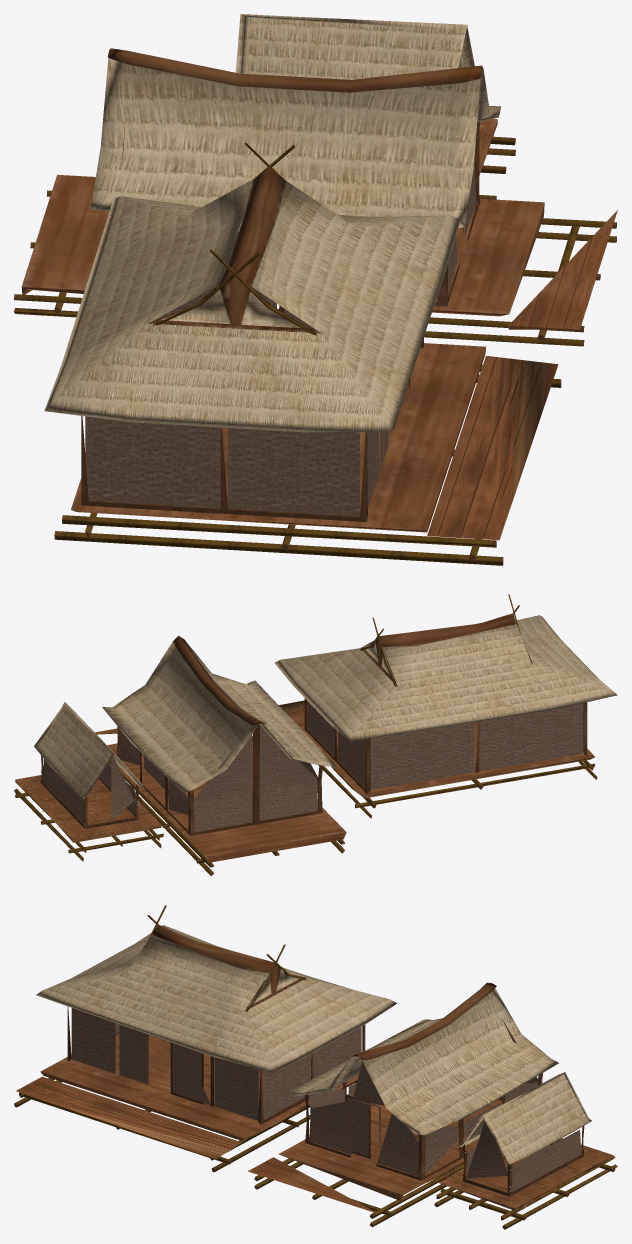
The model's file is nha-be.glb.
The picture shows the model from 3 angles, top to bottom: view 1: azimuth 30°, elevation 25°; view 2: azimuth 150°, elevation 25°; view 3: azimuth 270°, elevation 25°; orthographic projection. The views are drawn at different scales.
Visible parts, largest first — view 1: house 1 walls.008_Material.006_0, house 1 walls.008_house 1 walls.002_0, house 2 walls.007_house 2 foundation_0, house 1 walls.008_house 1 foundation_0, house 2 walls.007_house 2 terrace_0, house 2 walls.007_house 2 roof_0, house 1 walls.008_house 1 roof_0, house 1 walls.008_house 1 terrace_0, house 2 walls.007_house 2 bamboo c_0, house 2 walls.007_house 2 bamboo a_0, house 2 walls.007_house 2 walls_0, house 1 walls.008_house 1 bamboo a_0 (+3 smaller); view 2: house 1 walls.008_Material.006_0, house 1 walls.008_house 1 walls.002_0, house 1 walls.008_house 1 foundation_0, house 4 walls.006_house 4 foundation_0, house 2 walls.007_house 2 foundation_0, house 1 walls.008_house 1 walls_0, house 2 walls.007_house 2 roof_0, house 1 walls.008_house 1 roof_0, house 2 walls.007_house 2 walls_0, house 2 walls.007_house 2 bamboo b_0, house 4 walls.006_house 4 walls_0, house 1 walls.008_house 1 bamboo c_0 (+3 smaller); view 3: house 1 walls.008_Material.006_0, house 1 walls.008_house 1 walls.002_0, house 2 walls.007_house 2 foundation_0, house 1 walls.008_house 1 foundation_0, house 2 walls.007_house 2 terrace_0, house 4 walls.006_house 4 foundation_0, house 2 walls.007_house 2 roof_0, house 1 walls.008_house 1 terrace_0, house 1 walls.008_house 1 roof_0, house 1 walls.008_house 1 walls_0, house 2 walls.007_house 2 walls_0, house 4 walls.006_house 4 walls_0 (+7 smaller).
Part boxes in pixels (<box>): house 1 walls.008_Material.006_0: <box>44,14,501,432</box>; house 1 walls.008_house 1 walls.002_0: <box>85,108,476,516</box>; house 2 walls.007_house 2 foundation_0: <box>71,343,485,532</box>; house 1 walls.008_house 1 foundation_0: <box>21,174,544,316</box>; house 2 walls.007_house 2 terrace_0: <box>427,356,558,540</box>; house 2 walls.007_house 2 roof_0: <box>148,167,321,333</box>; house 1 walls.008_house 1 roof_0: <box>107,48,483,92</box>; house 1 walls.008_house 1 terrace_0: <box>508,210,617,329</box>; house 2 walls.007_house 2 bamboo c_0: <box>54,374,561,565</box>; house 2 walls.007_house 2 bamboo a_0: <box>62,364,496,547</box>; house 2 walls.007_house 2 walls_0: <box>81,305,423,521</box>; house 1 walls.008_house 1 bamboo a_0: <box>14,190,616,332</box>; house 1 walls.008_Material.006_0: <box>34,615,617,798</box>; house 1 walls.008_house 1 walls.002_0: <box>43,701,583,832</box>; house 1 walls.008_house 1 foundation_0: <box>107,736,346,862</box>; house 4 walls.006_house 4 foundation_0: <box>15,775,161,842</box>; house 2 walls.007_house 2 foundation_0: <box>289,713,594,798</box>; house 1 walls.008_house 1 walls_0: <box>117,724,322,835</box>; house 2 walls.007_house 2 roof_0: <box>360,613,516,686</box>; house 1 walls.008_house 1 roof_0: <box>172,635,265,725</box>; house 2 walls.007_house 2 walls_0: <box>304,698,587,793</box>; house 2 walls.007_house 2 bamboo b_0: <box>355,763,595,808</box>; house 4 walls.006_house 4 walls_0: <box>40,755,138,828</box>; house 1 walls.008_house 1 bamboo c_0: <box>135,792,344,876</box>; house 1 walls.008_Material.006_0: <box>36,925,591,1164</box>; house 1 walls.008_house 1 walls.002_0: <box>71,979,581,1191</box>; house 2 walls.007_house 2 foundation_0: <box>40,1034,358,1140</box>; house 1 walls.008_house 1 foundation_0: <box>278,1098,579,1200</box>; house 2 walls.007_house 2 terrace_0: <box>16,1076,241,1159</box>; house 4 walls.006_house 4 foundation_0: <box>438,1138,613,1210</box>; house 2 walls.007_house 2 roof_0: <box>152,924,306,1011</box>; house 1 walls.008_house 1 terrace_0: <box>248,1157,379,1214</box>; house 1 walls.008_house 1 roof_0: <box>352,982,496,1060</box>; house 1 walls.008_house 1 walls_0: <box>304,1073,542,1180</box>; house 2 walls.007_house 2 walls_0: <box>67,1006,365,1124</box>; house 4 walls.006_house 4 walls_0: <box>462,1126,584,1196</box>.
Size of the model in its own units: 0.8593 by 0.2837 by 1.
24 materials, 24 textured.
